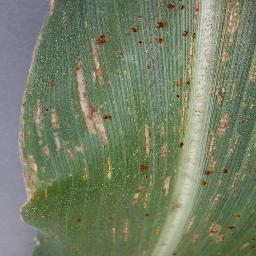Gray_Leaf_Spot: (201, 191, 254, 254), (202, 76, 231, 190), (148, 0, 204, 59), (16, 83, 37, 224), (232, 93, 256, 192), (216, 0, 242, 72), (129, 163, 173, 204), (157, 109, 187, 164), (84, 95, 112, 151), (38, 103, 62, 164), (35, 0, 69, 39), (86, 29, 108, 88), (169, 62, 190, 108), (23, 40, 44, 83), (138, 120, 156, 162), (73, 62, 85, 124), (128, 13, 146, 50), (184, 213, 201, 246), (246, 42, 256, 90), (63, 138, 85, 157), (104, 154, 117, 182), (79, 160, 91, 183), (42, 179, 53, 204), (108, 223, 118, 250), (122, 219, 131, 246), (137, 204, 151, 221), (151, 220, 162, 240), (171, 200, 183, 216), (117, 47, 129, 62), (71, 216, 86, 227), (142, 64, 157, 74), (169, 251, 184, 256)
